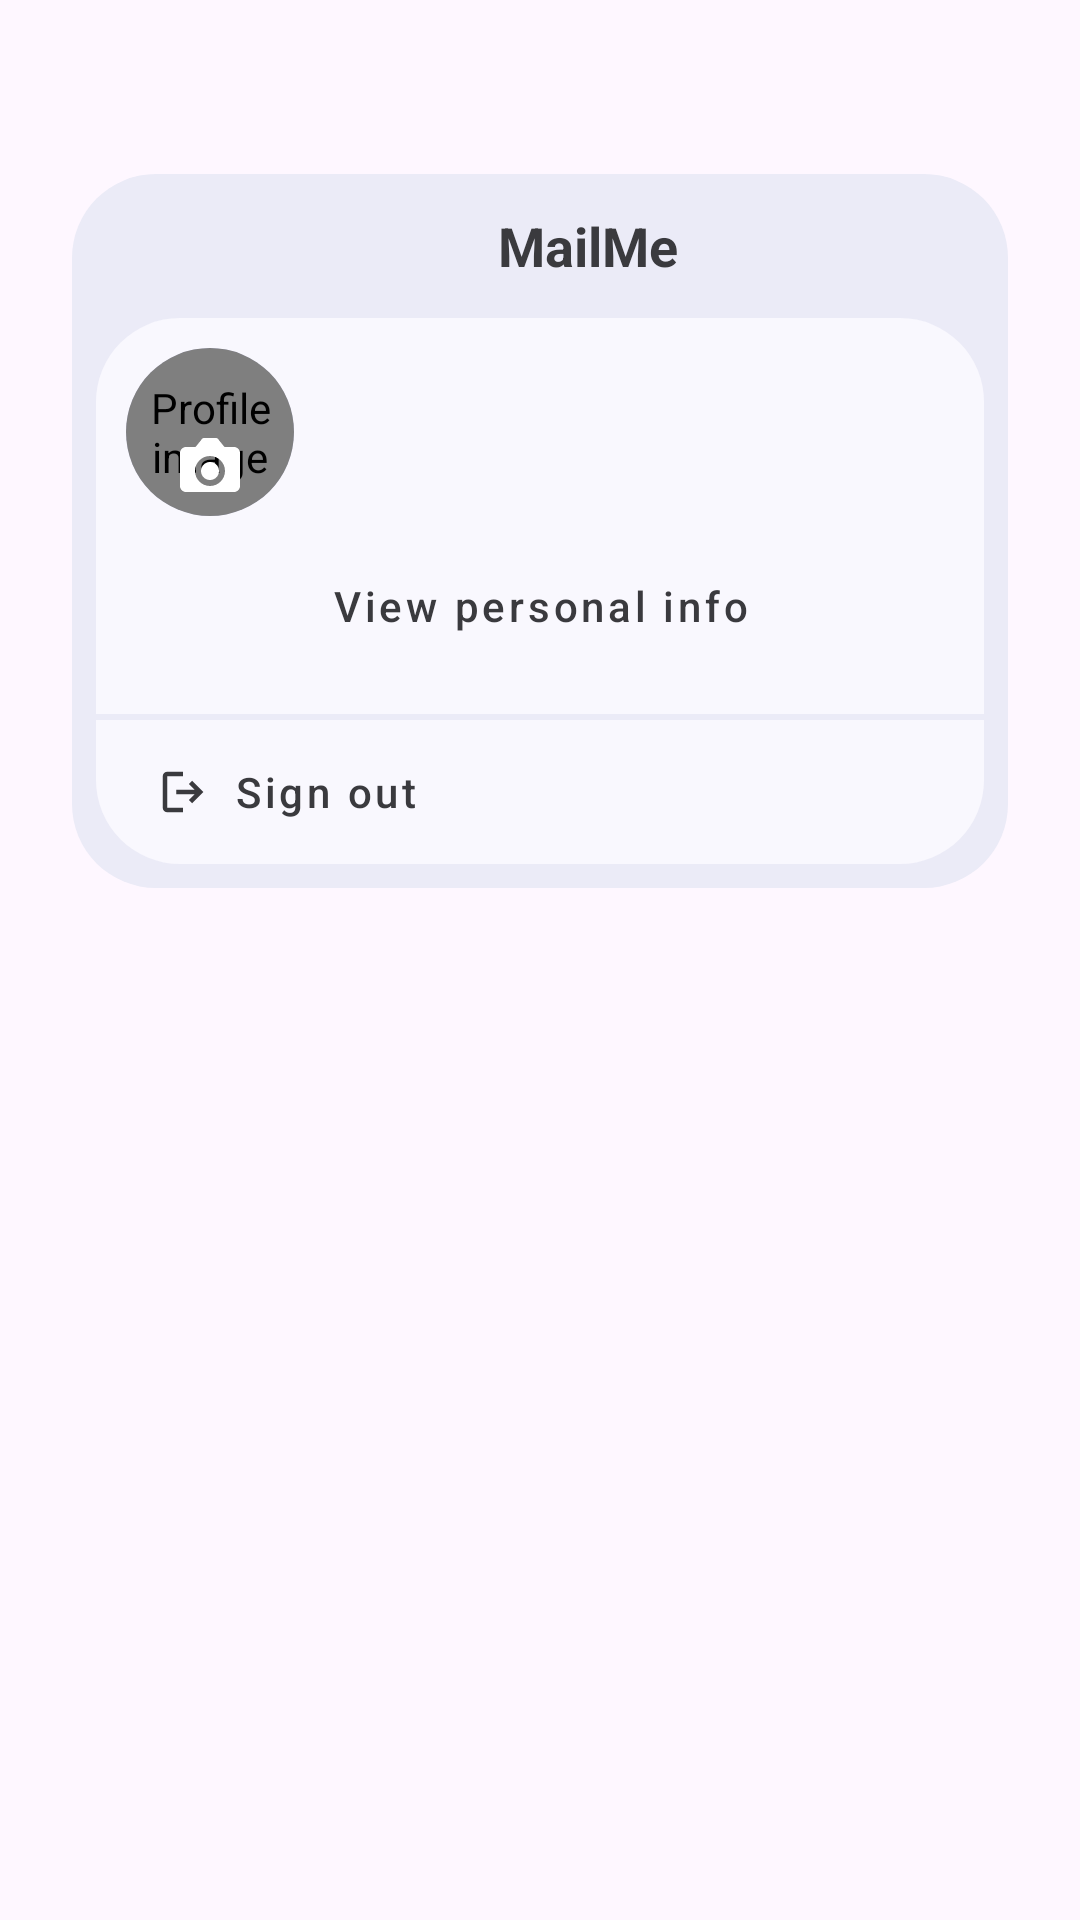

Screen size 1080 × 1920. Icon name, then its center in pixels as [x,y]:
Camera icon: [208,465]
